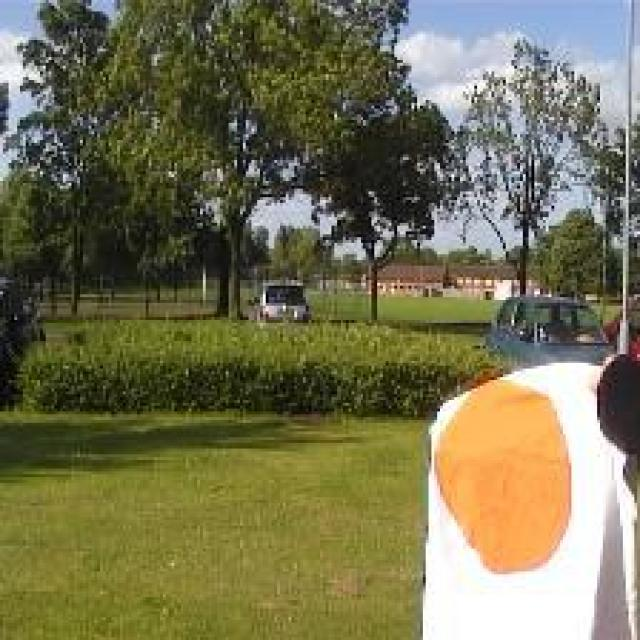other: (434, 360, 588, 579)
